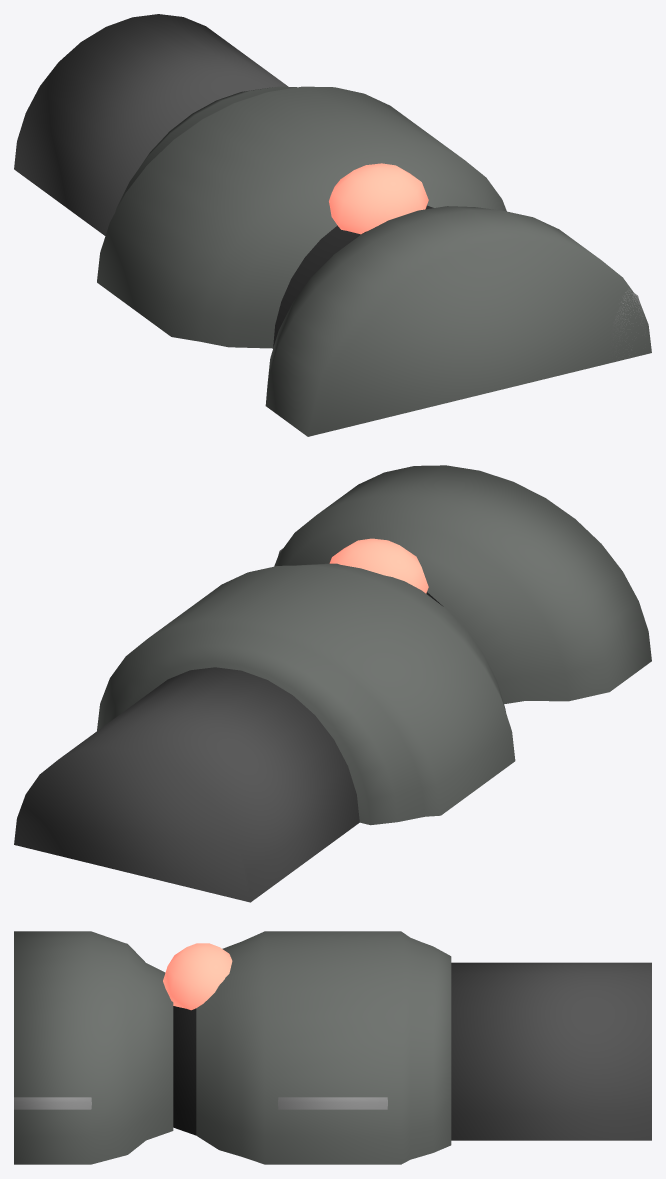
The model's file is newshc-17.glb.
The picture shows the model from 3 angles, top to bottom: view 1: azimuth 30°, elevation 25°; view 2: azimuth 150°, elevation 25°; view 3: azimuth 270°, elevation 25°; orthographic projection. The views are drawn at different scales.
Parts seen in each view (by area): view 1: newshc-17; view 2: newshc-17; view 3: newshc-17.
Part boxes in pixels (x1=…): newshc-17: x1=14, y1=14, x2=651, y2=436; newshc-17: x1=14, y1=465, x2=651, y2=902; newshc-17: x1=14, y1=931, x2=651, y2=1164.
Size of the model in its own units: 1.33 by 0.56 by 2.33.
